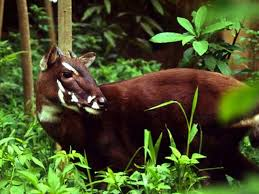sao_la: (36, 40, 124, 132)
